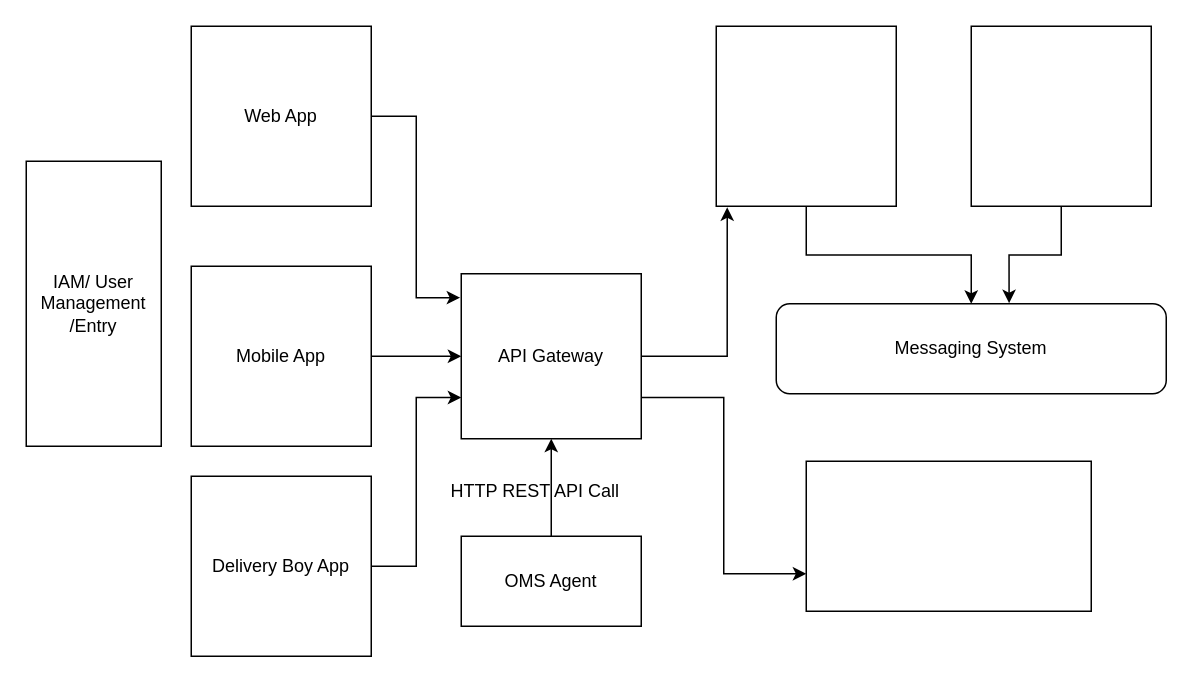
The diagram is 1193 pixels wide and 683 high, and some of its shapes have lost their labels. The shapes that lost their labels are listed below. From the top down, each one's centre as x and y in pixels, then its label:
At [805,115]: "OMS".
At [1060,115]: "Fulfillment".
At [948,535]: "Listing/Catalog".
